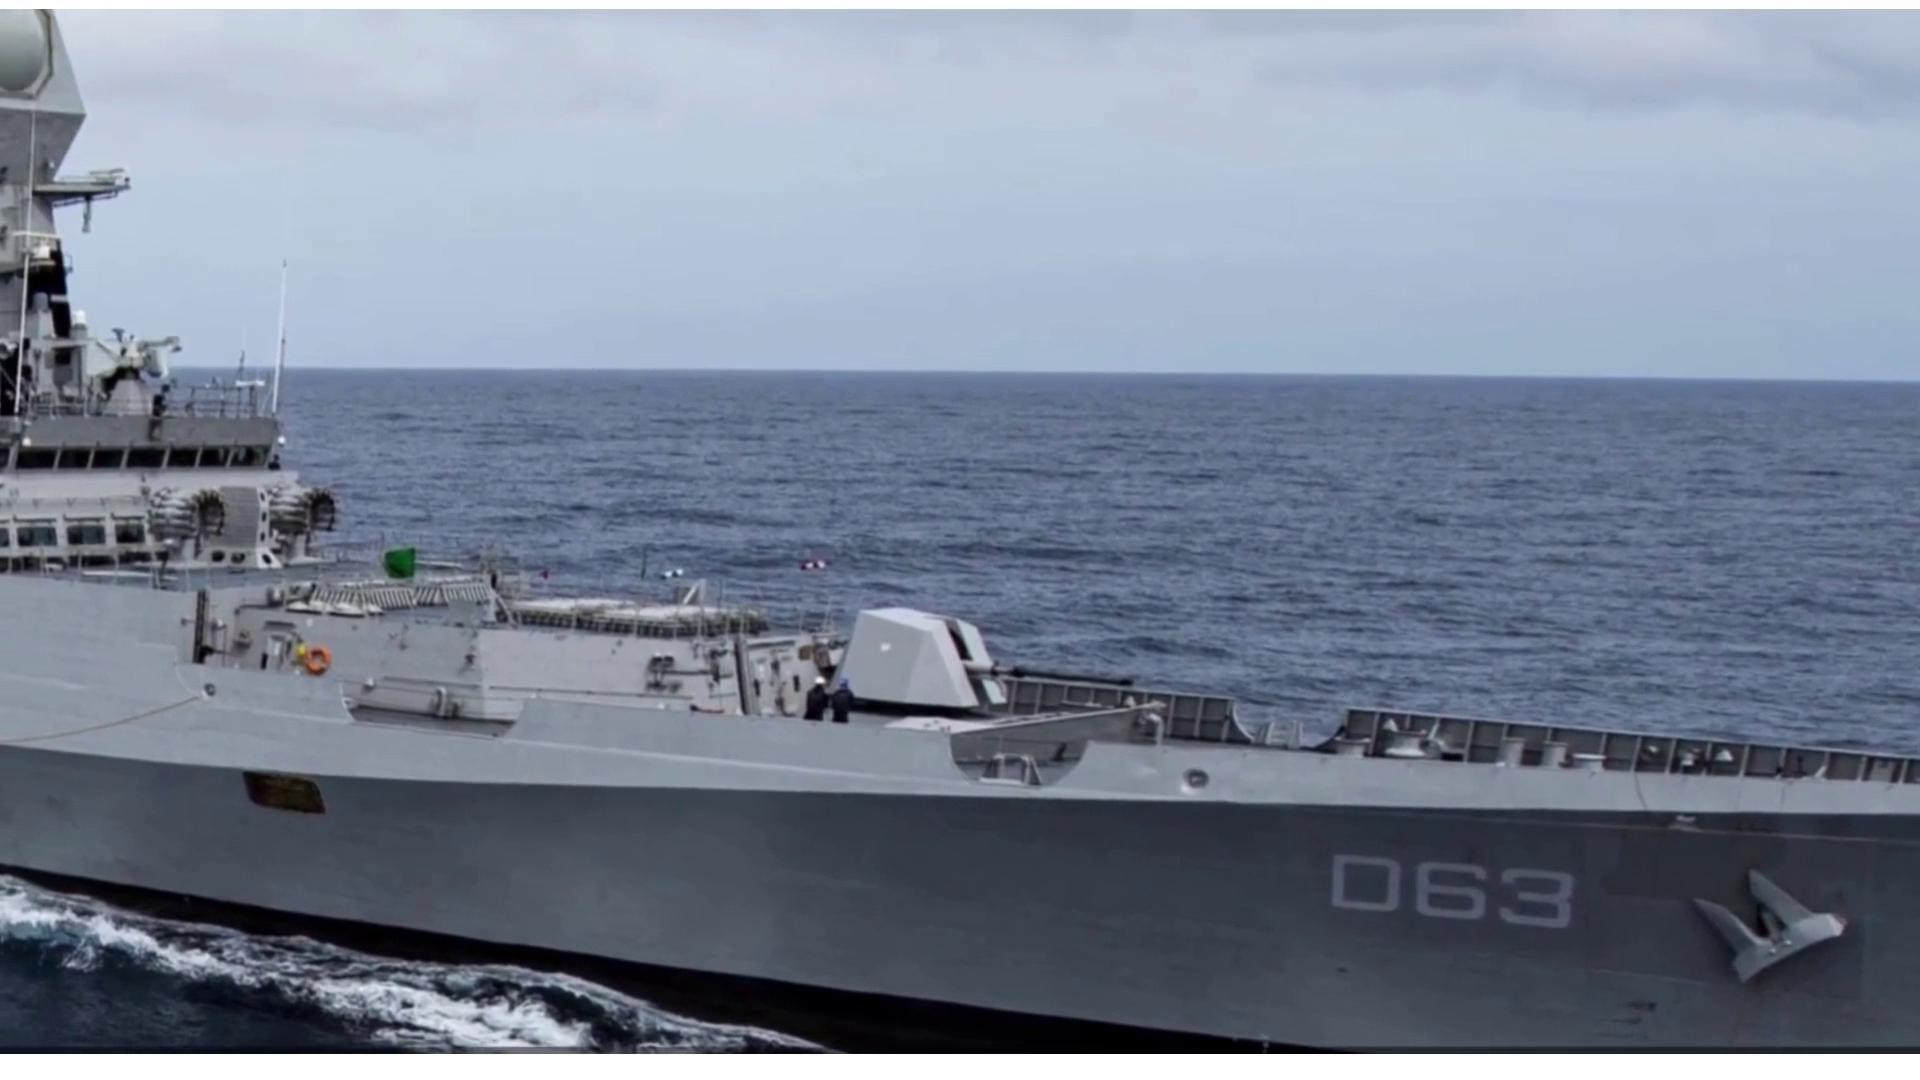OCR: (1320, 844, 1588, 940)
